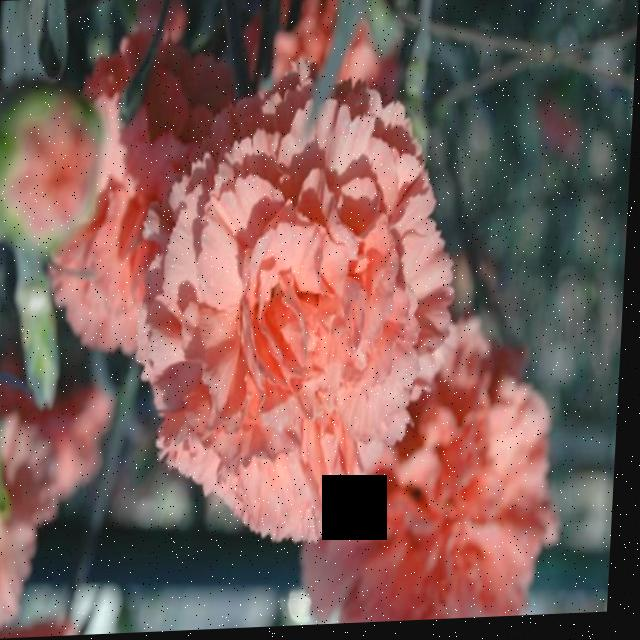carnation: (139, 71, 462, 550)
